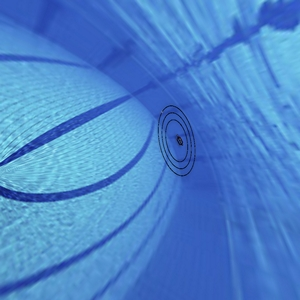circle: (148, 96, 206, 189)
submarine: (173, 132, 186, 149)
